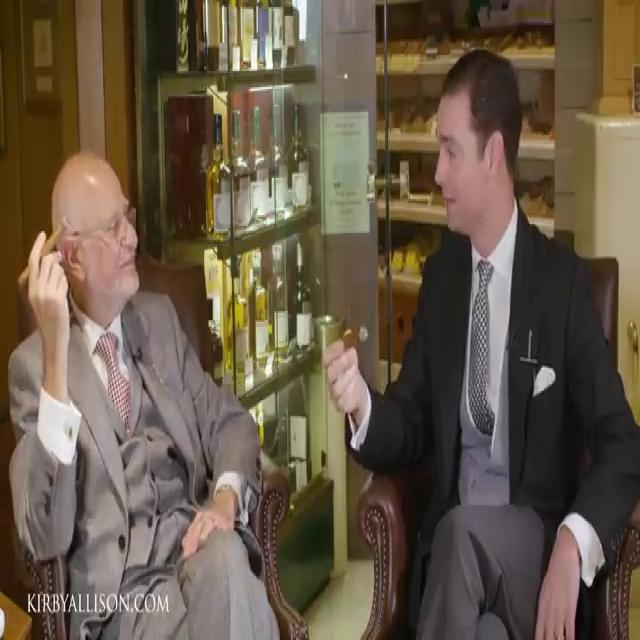Smooking: (13, 218, 79, 289)
